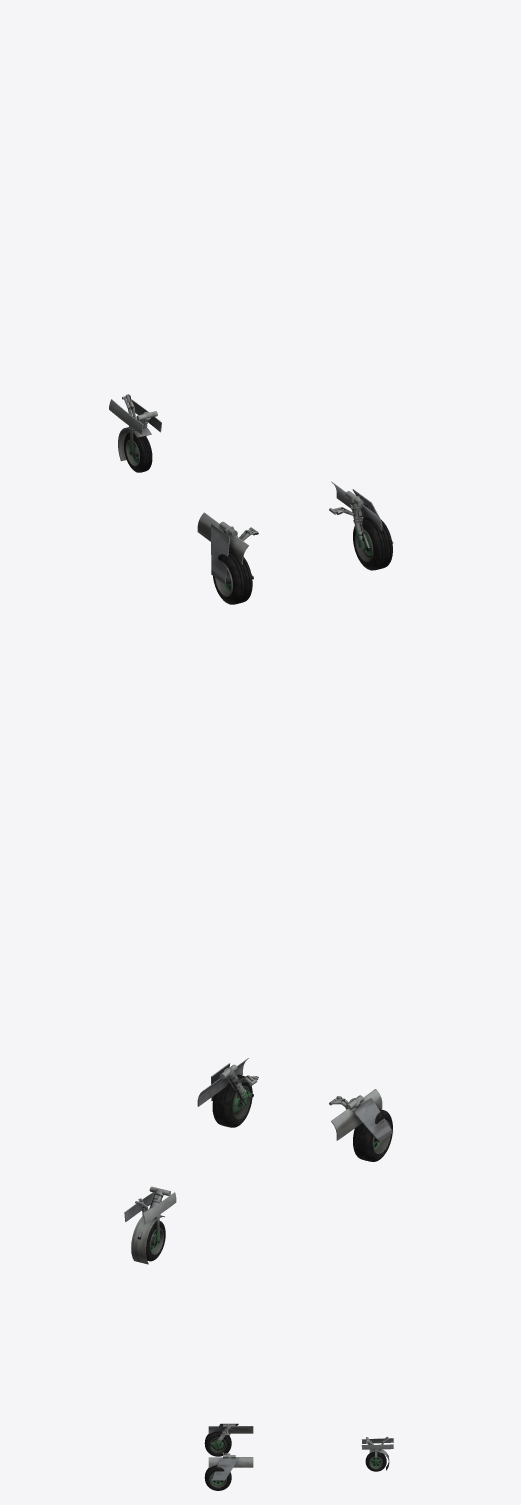
Rendered from e_su25_gear.glb.
3 renders of one model, top to bottom at view 1: azimuth 30°, elevation 25°; view 2: azimuth 150°, elevation 25°; view 3: azimuth 270°, elevation 25°, orthographic. The views are drawn at different scales.
Parts seen in each view (by area): view 1: body|S25_paint; view 2: body|S25_paint; view 3: body|S25_paint.
Part boxes in pixels (box(x1,y1,x2,y2)): body|S25_paint: box(109, 394, 393, 604); body|S25_paint: box(124, 1058, 393, 1264); body|S25_paint: box(204, 1423, 393, 1490).
Bounding box in the file's own units: 3.06 × 6.21 × 15.45.
Materials: 2 (1 with a texture image).
